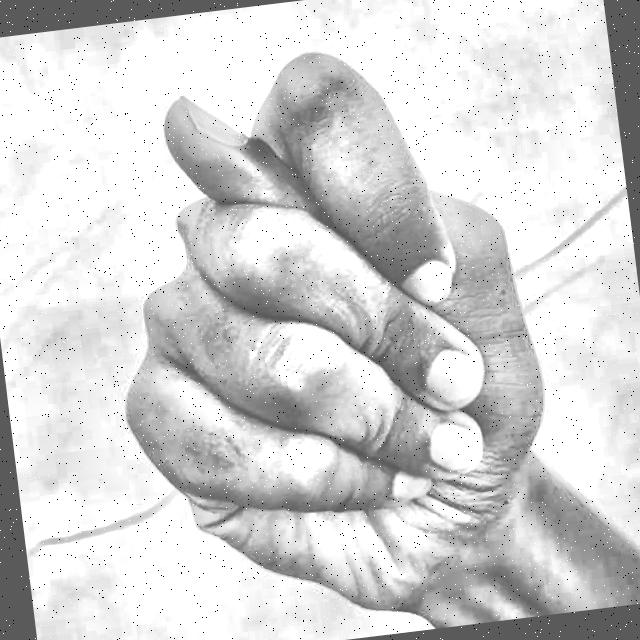Ta: (57, 0, 635, 640)
